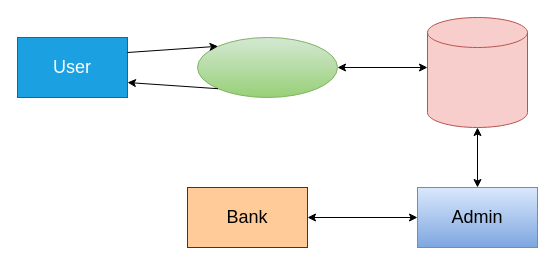
This 555x265 diagram has some shape labels left out. Each missing label, with the centre of its shape:
"Easy Bank Database" belongs at point (477, 72).
"Easy Bank Website" belongs at point (267, 67).
